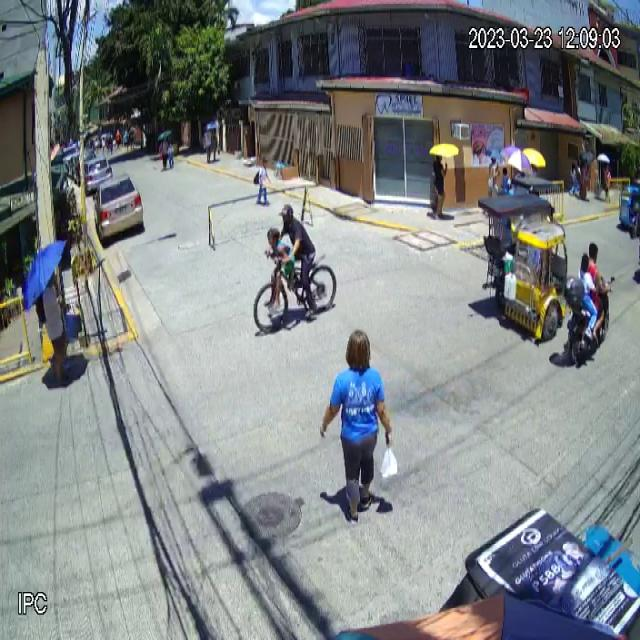Tricycle: (476, 190, 572, 344)
